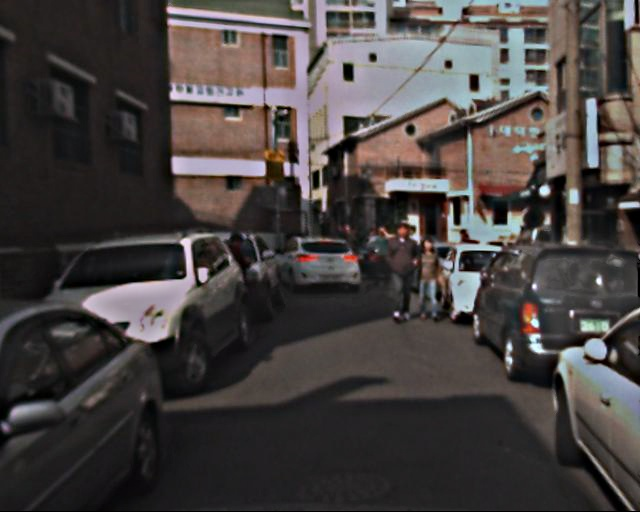person: (382, 223, 423, 323), (219, 233, 257, 326), (411, 238, 446, 324), (371, 225, 396, 286)
